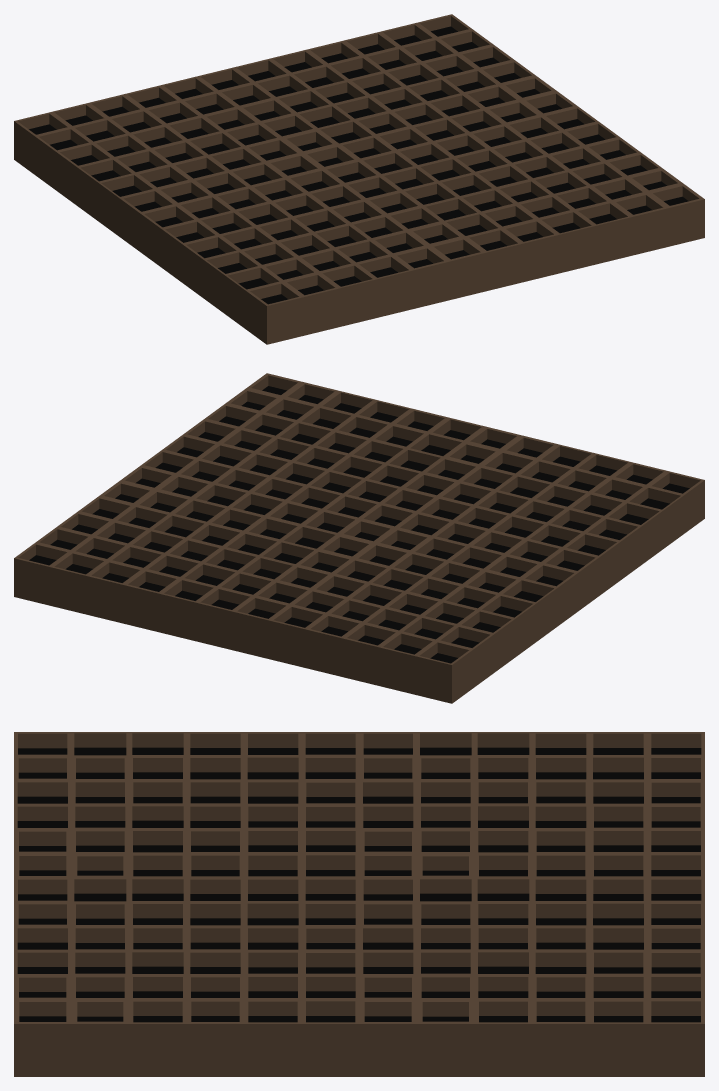
File: lattice.fbx
The picture shows the model from 3 angles, top to bottom: view 1: azimuth 30°, elevation 25°; view 2: azimuth 150°, elevation 25°; view 3: azimuth 270°, elevation 25°; orthographic projection. The views are drawn at different scales.
Visible parts, largest first — view 1: Cube.002; view 2: Cube.002; view 3: Cube.002.
Boxes of the visible parts, <box> form: Cube.002: <box>14,14,704,344</box>; Cube.002: <box>14,373,704,703</box>; Cube.002: <box>14,732,704,1076</box>.
Bounding box in the file's own units: 380 × 32.07 × 380.
